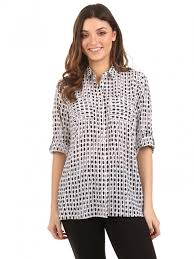C_blouse: (35, 66, 159, 223)
